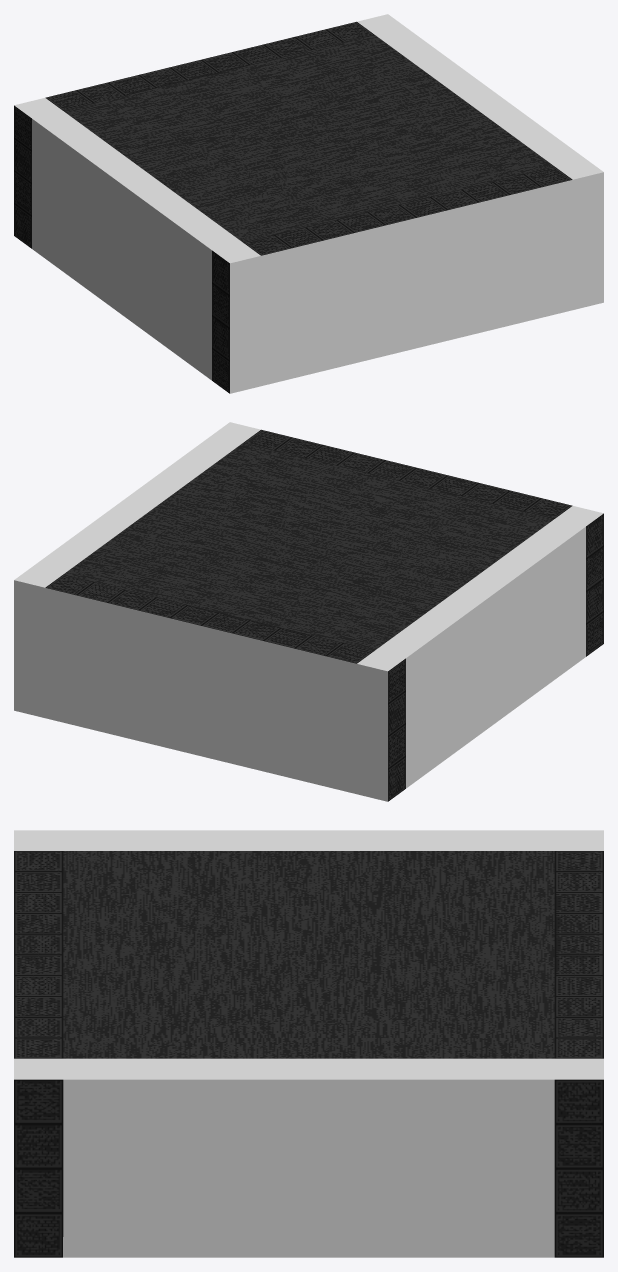
The model's file is Cube3x3WithNet.fbx.
The picture shows the model from 3 angles, top to bottom: view 1: azimuth 30°, elevation 25°; view 2: azimuth 150°, elevation 25°; view 3: azimuth 270°, elevation 25°; orthographic projection. The views are drawn at different scales.
Parts seen in each view (by area): view 1: Cube.006; view 2: Cube.006; view 3: Cube.006.
Part boxes in pixels (bbox=[...]): Cube.006: bbox=[14, 14, 603, 393]; Cube.006: bbox=[14, 422, 603, 801]; Cube.006: bbox=[14, 830, 603, 1257].
Bounding box in the file's own units: 1200 × 400 × 1200.
